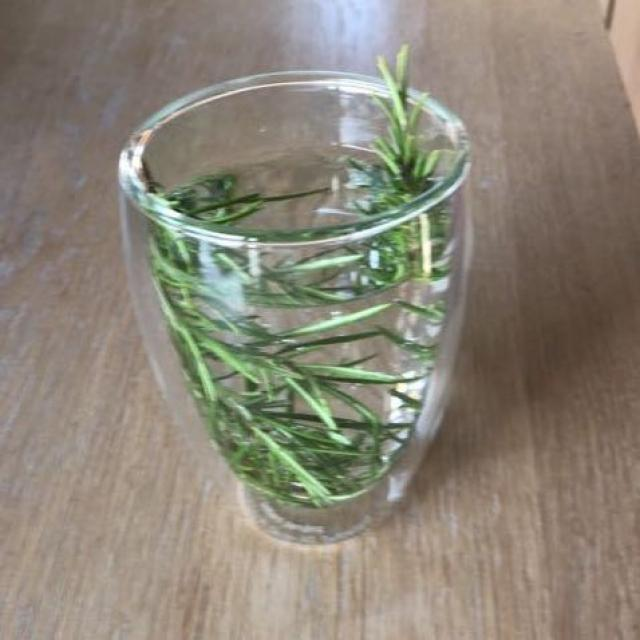water: (142, 147, 490, 566), (132, 84, 460, 503), (133, 101, 467, 511), (146, 155, 461, 538)
